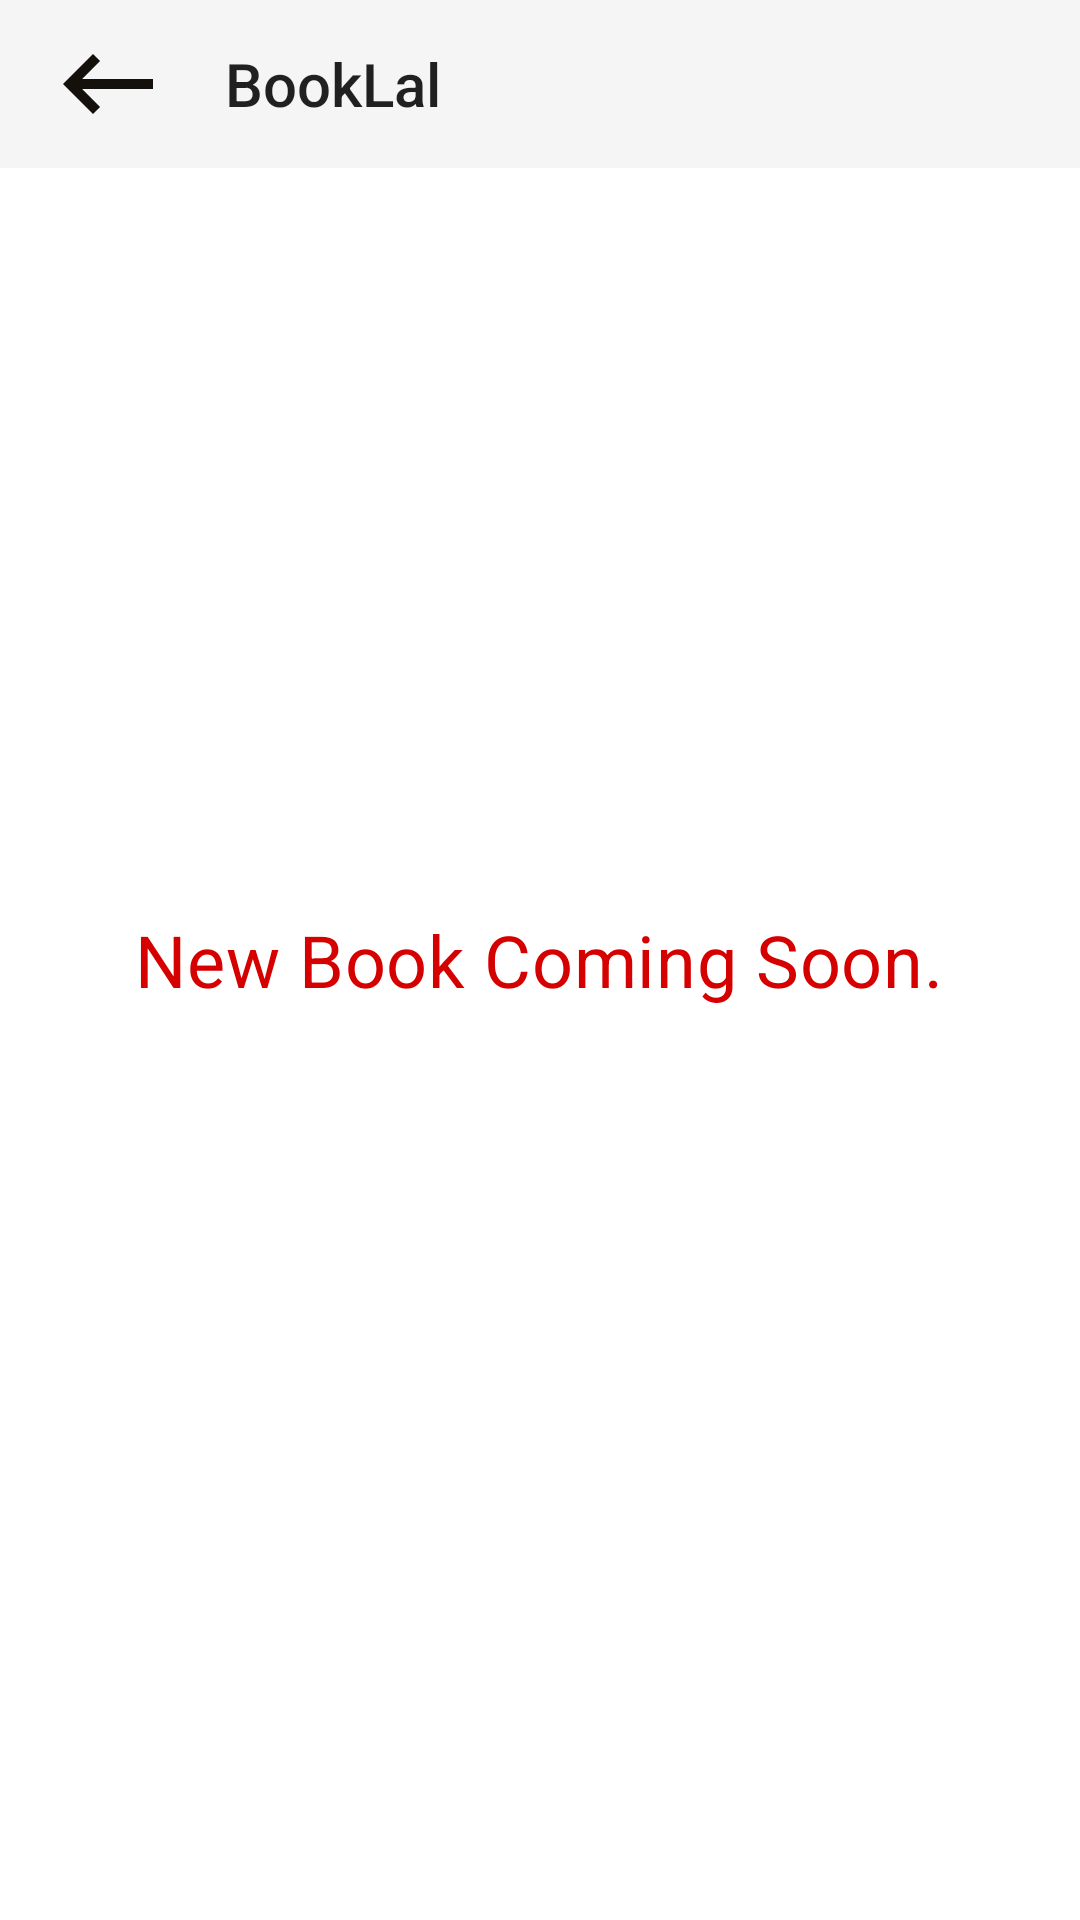

Where icons sit on this 1080 × 1920 app screen, as (x1, y1, x2, y2):
long back arrow: (63, 54, 153, 114)
